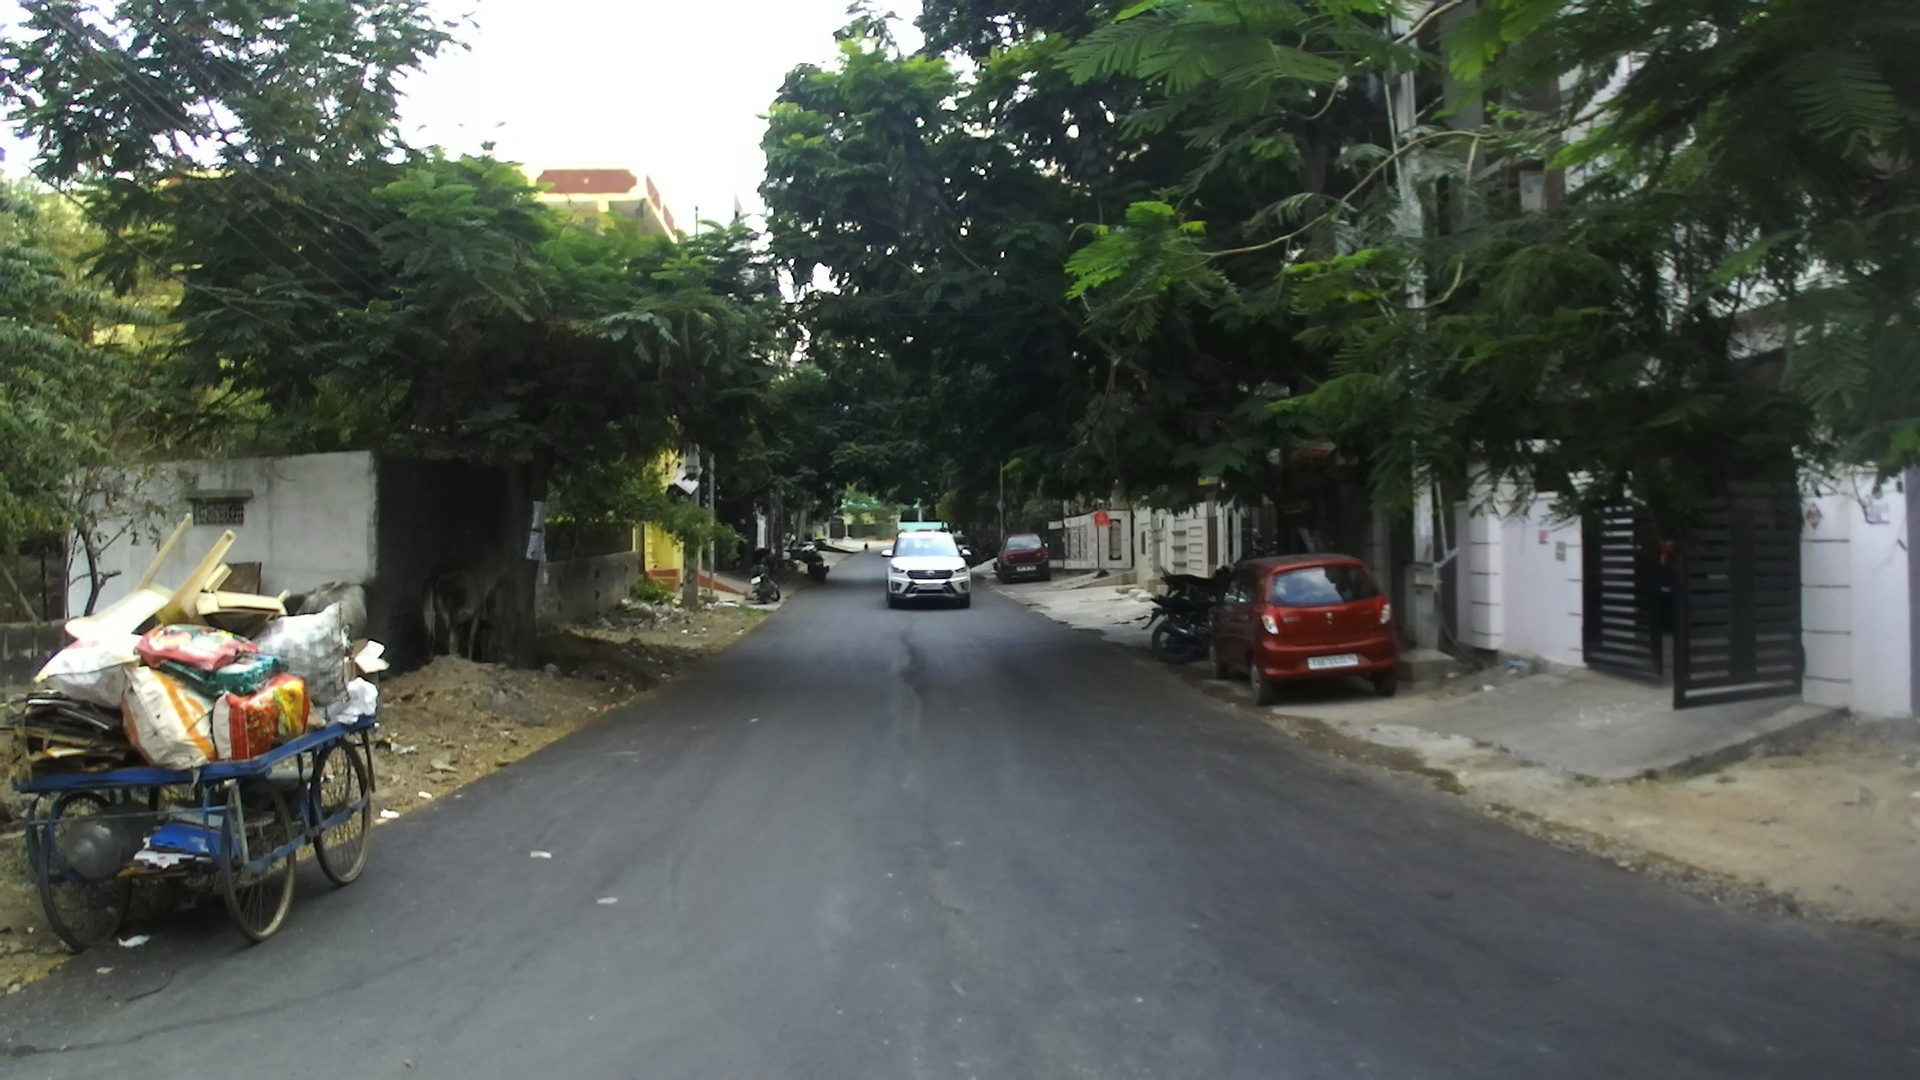vehicle: (1, 516, 392, 955), (1208, 551, 1403, 702), (884, 525, 973, 609), (1145, 568, 1222, 659), (997, 534, 1050, 579), (785, 545, 829, 578)
